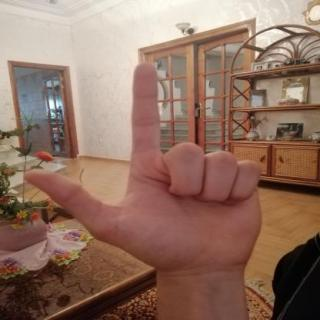LAAM: (10, 53, 279, 277)
